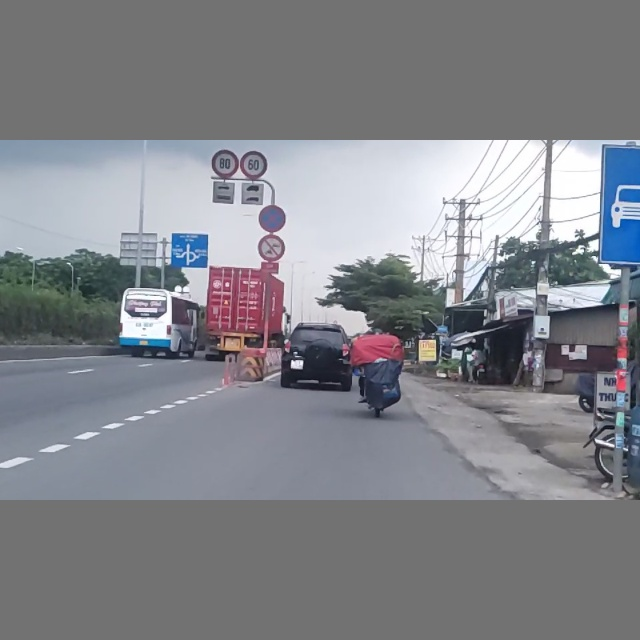P.111: (259, 235, 286, 261)
P.127*60: (241, 150, 268, 179)
P.127*80: (211, 149, 239, 178)
P.130: (257, 205, 287, 232)
